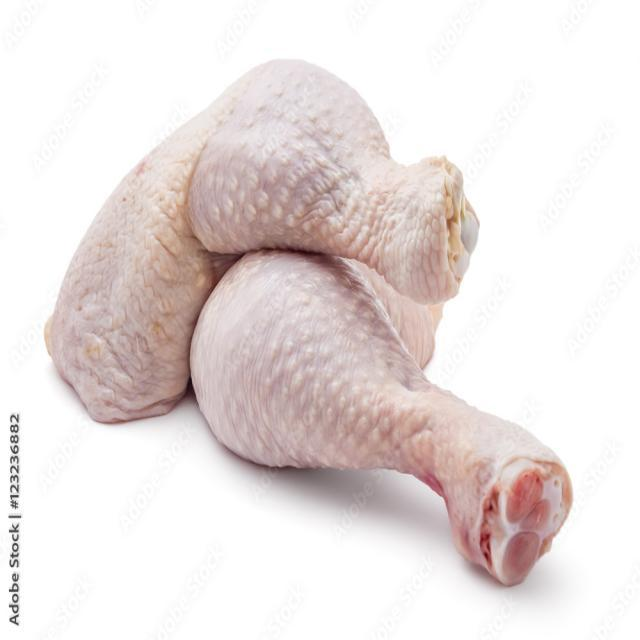quater: (51, 55, 470, 397), (210, 227, 582, 588)
